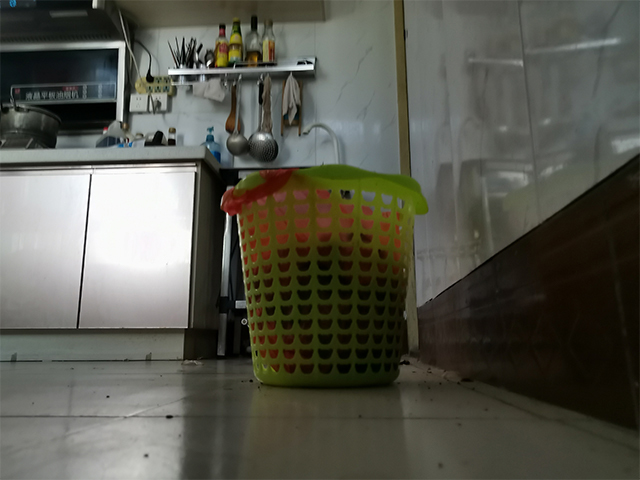cabinet: (1, 143, 221, 362)
trashcan: (218, 161, 431, 390)
